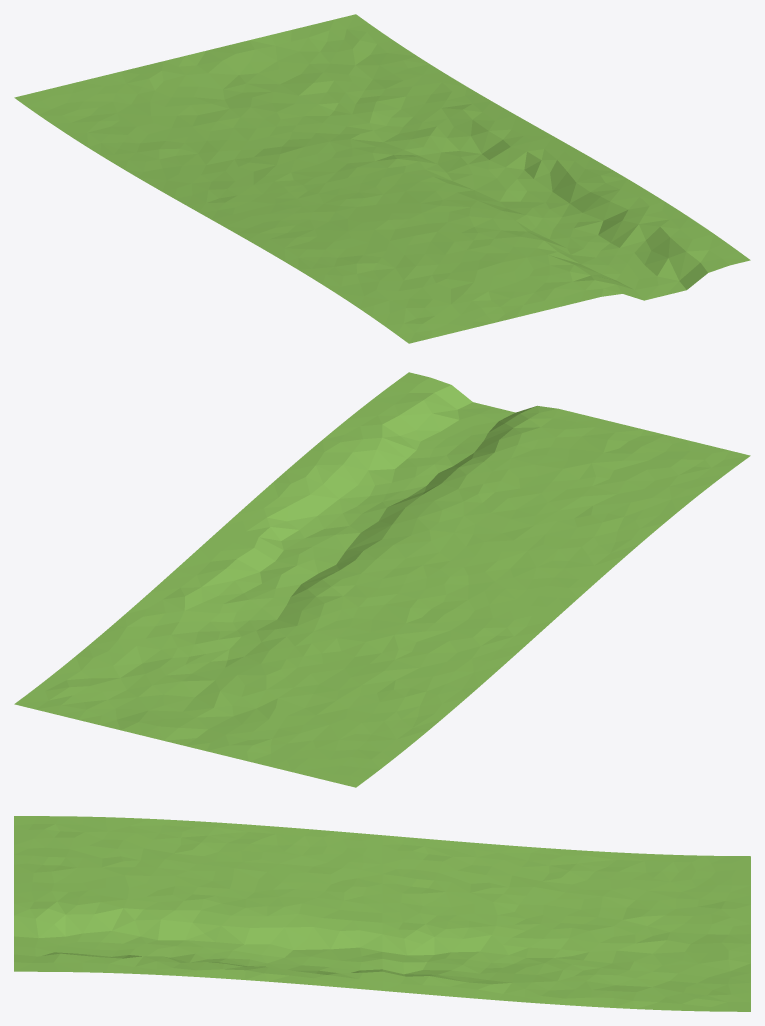
Rendered from MT_River_End_M_c_01_R_LOD.fbx.
The picture shows the model from 3 angles, top to bottom: view 1: azimuth 30°, elevation 25°; view 2: azimuth 150°, elevation 25°; view 3: azimuth 270°, elevation 25°; orthographic projection. The views are drawn at different scales.
Visible parts, largest first — view 1: MT_River_End_M_c_01_R_LOD0; view 2: MT_River_End_M_c_01_R_LOD0; view 3: MT_River_End_M_c_01_R_LOD0.
Part boxes in pixels (left/top/right/bottom): MT_River_End_M_c_01_R_LOD0: left=14, top=14, right=750, bottom=343; MT_River_End_M_c_01_R_LOD0: left=14, top=372, right=750, bottom=787; MT_River_End_M_c_01_R_LOD0: left=14, top=816, right=750, bottom=1011.
Size of what is drawn, in the model's own units: 50 by 6.29 by 100.
